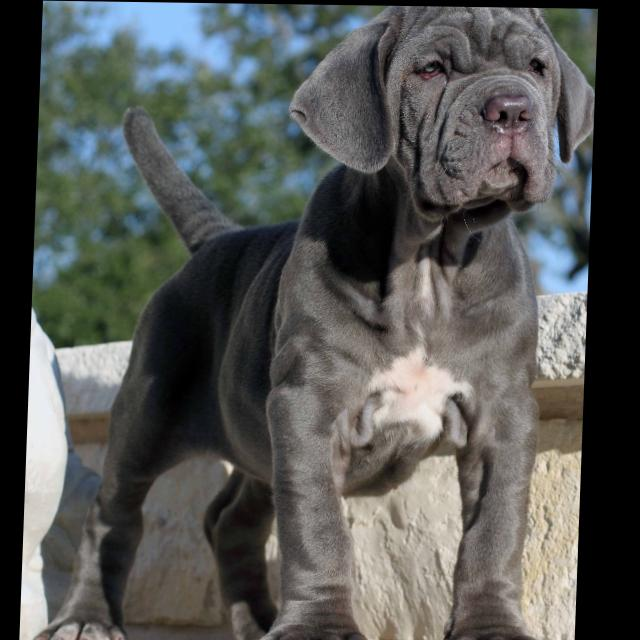mastino_napoletano: (33, 2, 599, 640)
